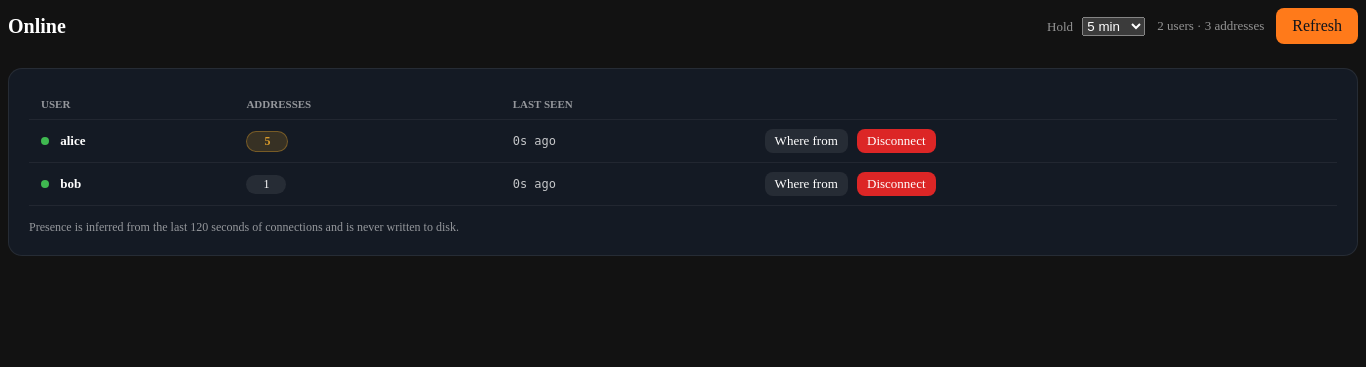
Test: OnlineView › shows source addresses only when asked for them
Check: the text "alice" is shown, box [60,133,86,148]
Check: the text "203.0.113.7" is not shown
Click the button with test id "toggle" in the row of "alice". click: click(806, 141)
box: [765,129,848,153]
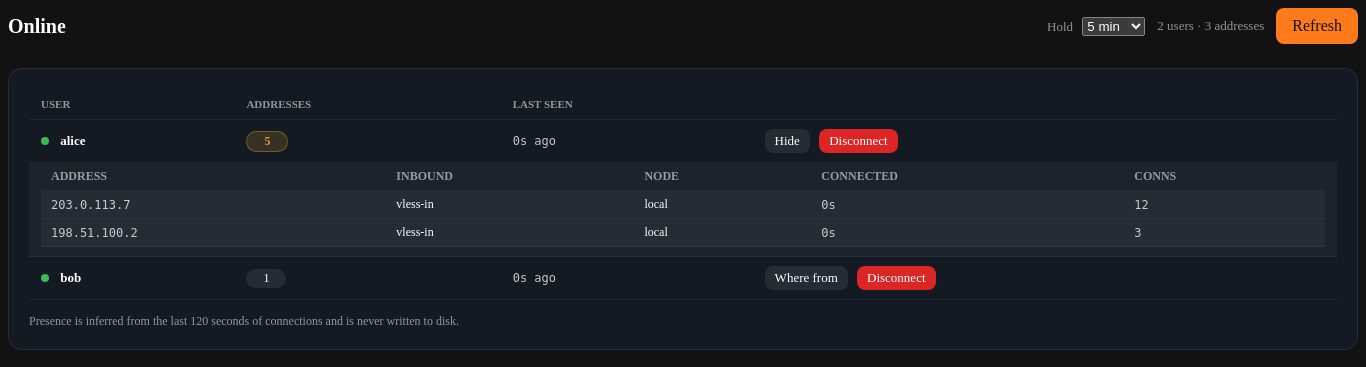
Check: the text "203.0.113.7" is shown, box [41,190,386,218]
Check: the text "198.51.100.2" is shown, box [41,218,386,246]
